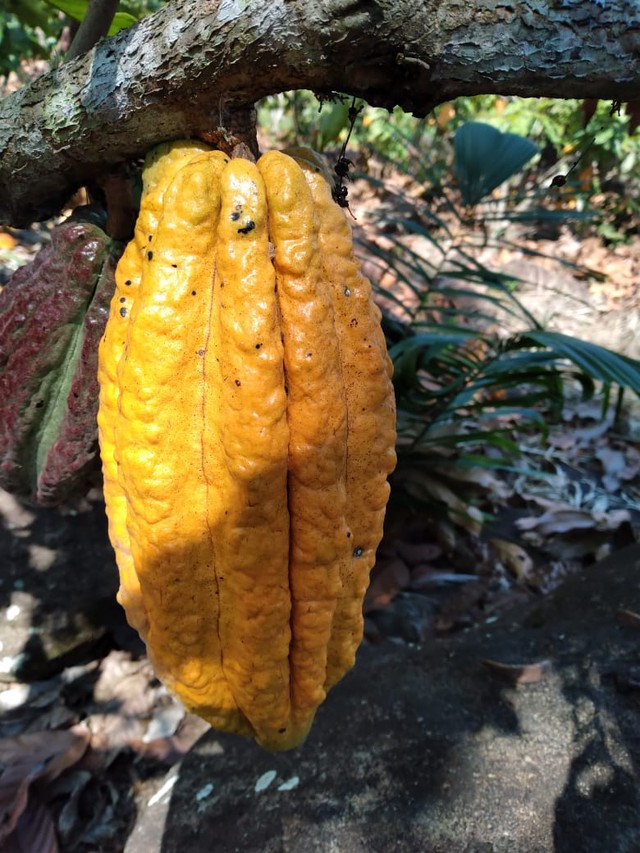Health: (86, 133, 405, 765)
